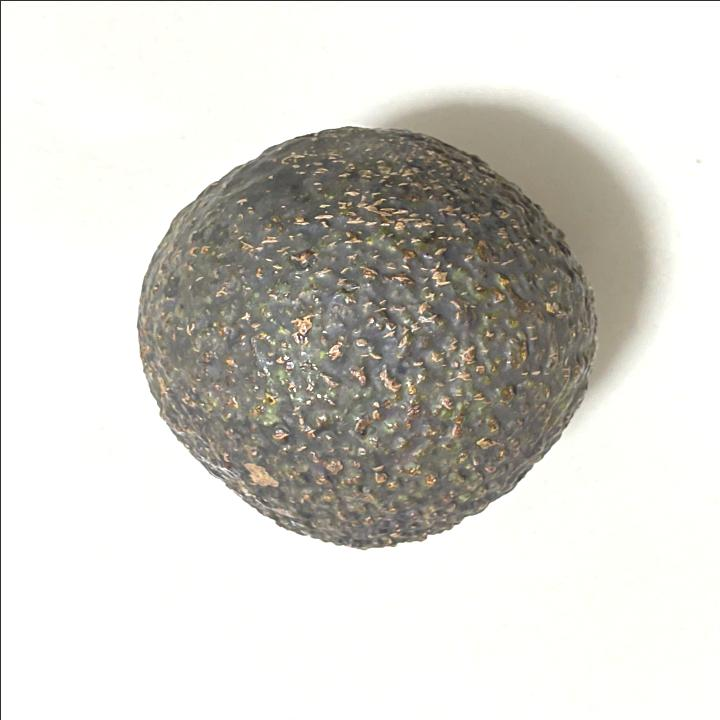Level1: (114, 119, 612, 568)
